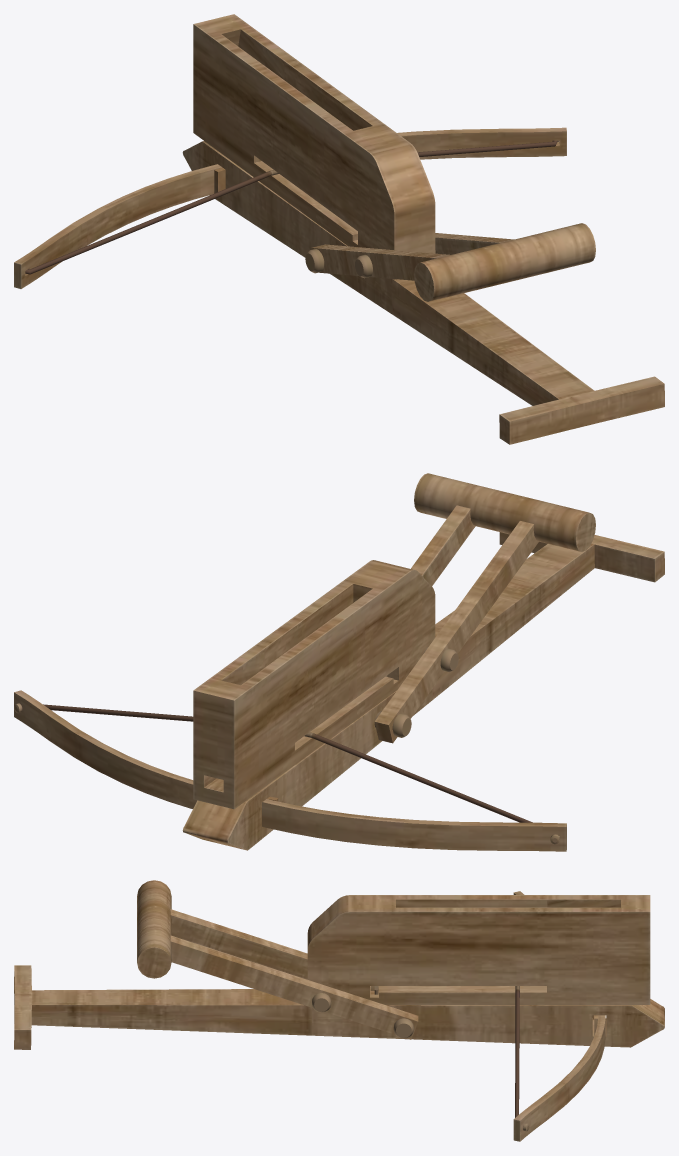
File: repeat_xbow.glb
The picture shows the model from 3 angles, top to bottom: view 1: azimuth 30°, elevation 25°; view 2: azimuth 150°, elevation 25°; view 3: azimuth 270°, elevation 25°; orthographic projection. The views are drawn at different scales.
Visible parts, largest first — view 1: Object_79; view 2: Object_79; view 3: Object_79.
Part boxes in pixels (box(x1,y1,x2,y2)): Object_79: box(14, 14, 664, 444); Object_79: box(14, 473, 664, 851); Object_79: box(14, 880, 664, 1141).
Bounding box in the file's own units: 0.3692 × 0.1008 × 0.4422.
Materials: 1 (1 with a texture image).
